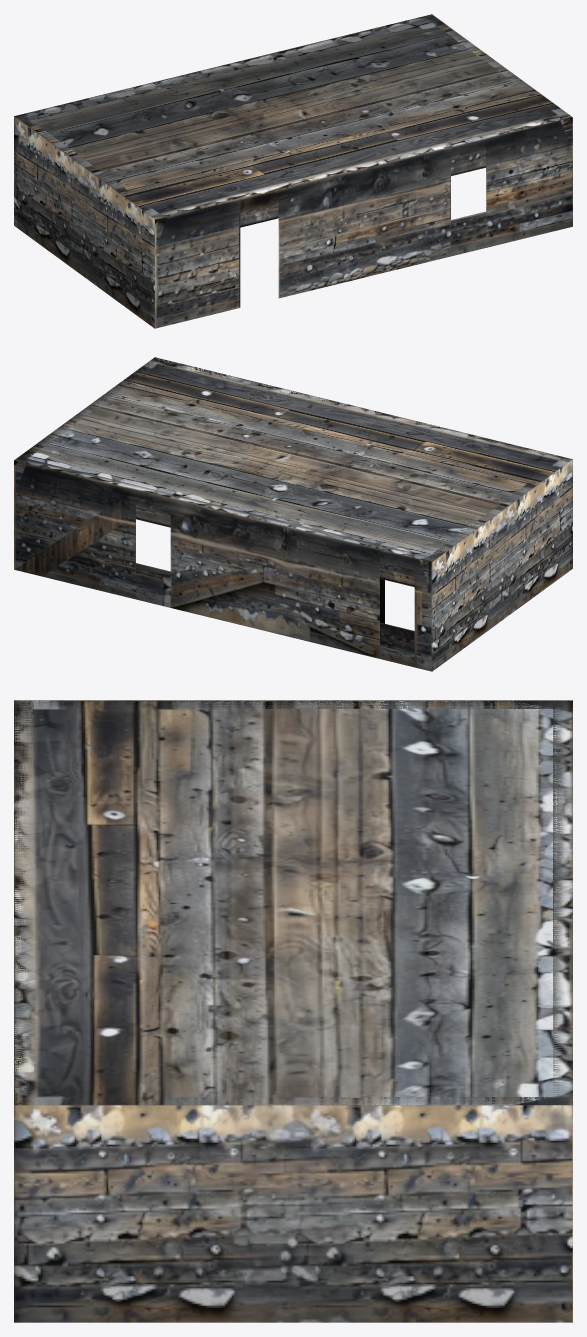
The model's file is skin_forest_-120_75.glb.
The picture shows the model from 3 angles, top to bottom: view 1: azimuth 30°, elevation 25°; view 2: azimuth 150°, elevation 25°; view 3: azimuth 270°, elevation 25°; orthographic projection. The views are drawn at different scales.
Parts seen in each view (by area): view 1: forest_-120_75; view 2: forest_-120_75; view 3: forest_-120_75.
Boxes of the visible parts, x1,y1,x2,y2 form: forest_-120_75: (14,14,572,328); forest_-120_75: (14,357,572,671); forest_-120_75: (14,700,572,1322).
Size of the model in its own units: 12 by 3 by 7.
1 material, 1 textured.
